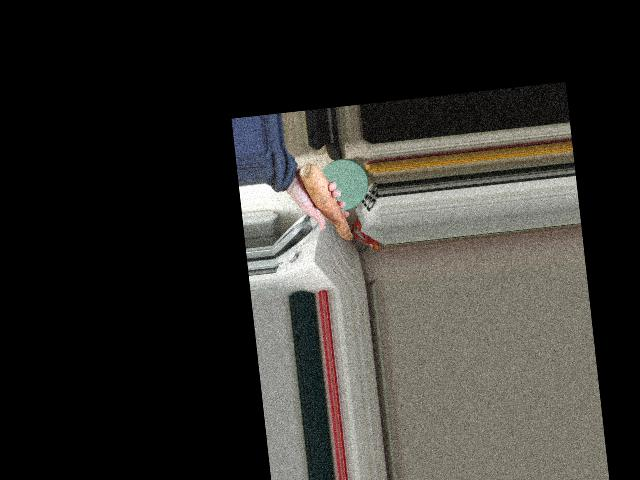sweet_potato: (295, 157, 357, 251)
